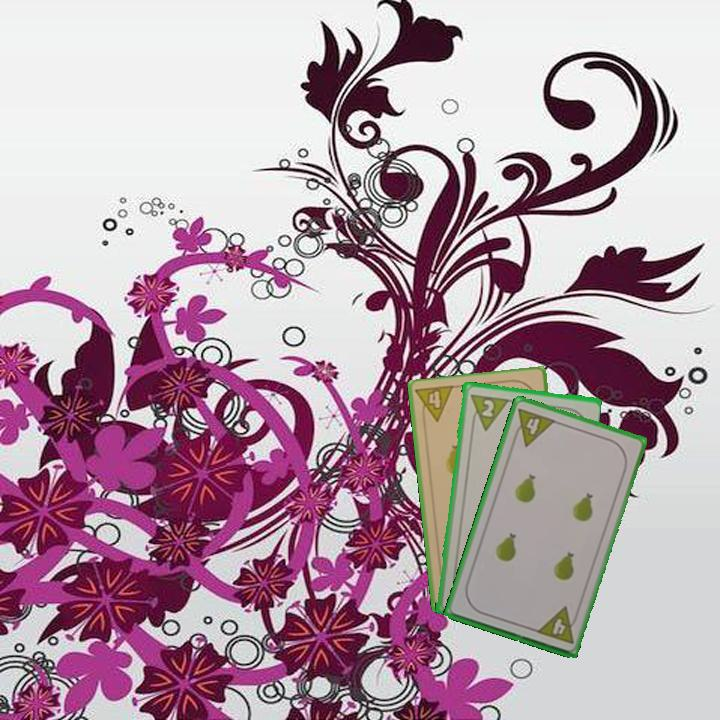2p: (466, 390, 510, 433)
4p: (508, 404, 558, 449), (533, 603, 581, 646), (412, 382, 456, 427)
